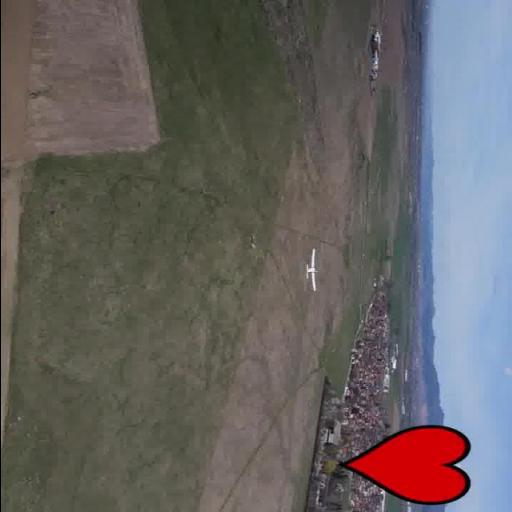uav: (298, 248, 322, 296)
